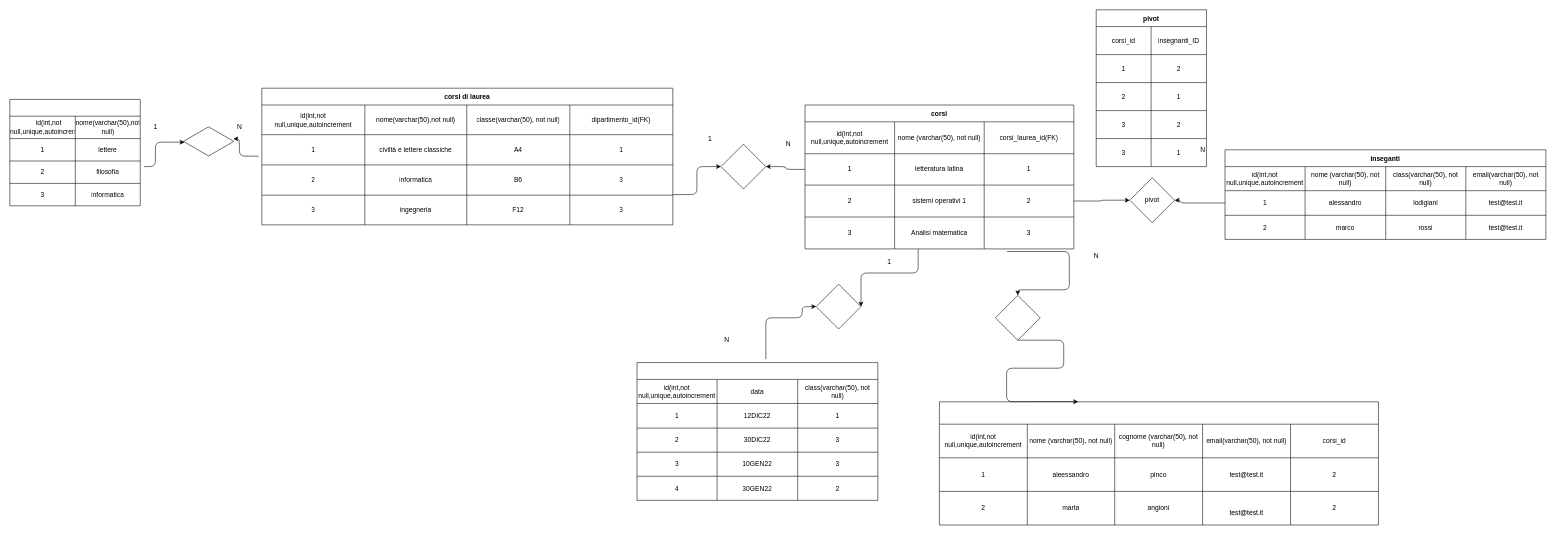
Image size: 1556x535. Some labels were removed from this diagram. The box of each missing label's shape, as (x1, y1, x2, y2) in pixels:
dipartimenti: (9, 99, 140, 206)
esami: (636, 362, 878, 500)
studenti: (939, 401, 1378, 525)
